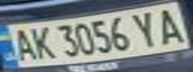0: (72, 20, 96, 56)
3: (54, 20, 78, 57)
5: (90, 17, 115, 54)
6: (106, 14, 136, 52)
A: (151, 4, 190, 45), (3, 25, 39, 62)
K: (24, 22, 57, 61)
Y: (127, 8, 166, 48)
